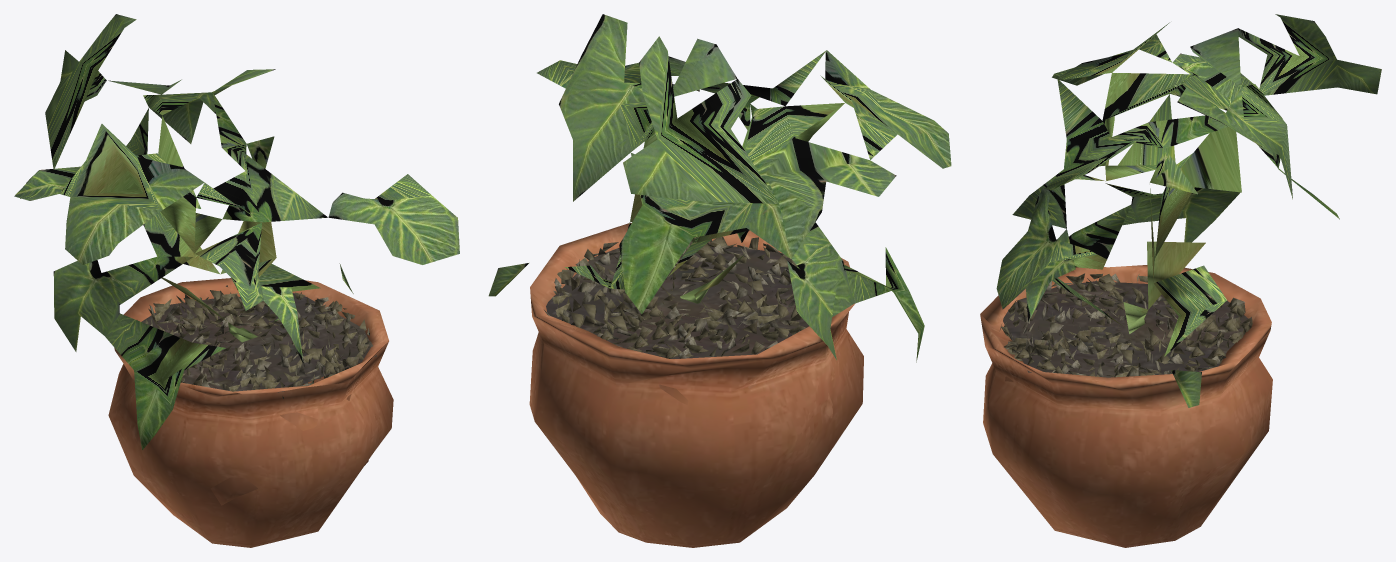
The model's file is matera.glb.
3 views of the same model, side by side, from view 1: azimuth 30°, elevation 25°; view 2: azimuth 150°, elevation 25°; view 3: azimuth 270°, elevation 25° (orthographic). The views are drawn at different scales.
Visible parts, largest first — view 1: matera; view 2: matera; view 3: matera.
Boxes of the visible parts, left/top/right/bottom form: matera: left=14, top=14, right=459, bottom=547; matera: left=488, top=14, right=951, bottom=547; matera: left=980, top=14, right=1381, bottom=547.
Size of the model in its own units: 0.6786 by 0.8272 by 0.6299.
2 materials, 2 textured.
